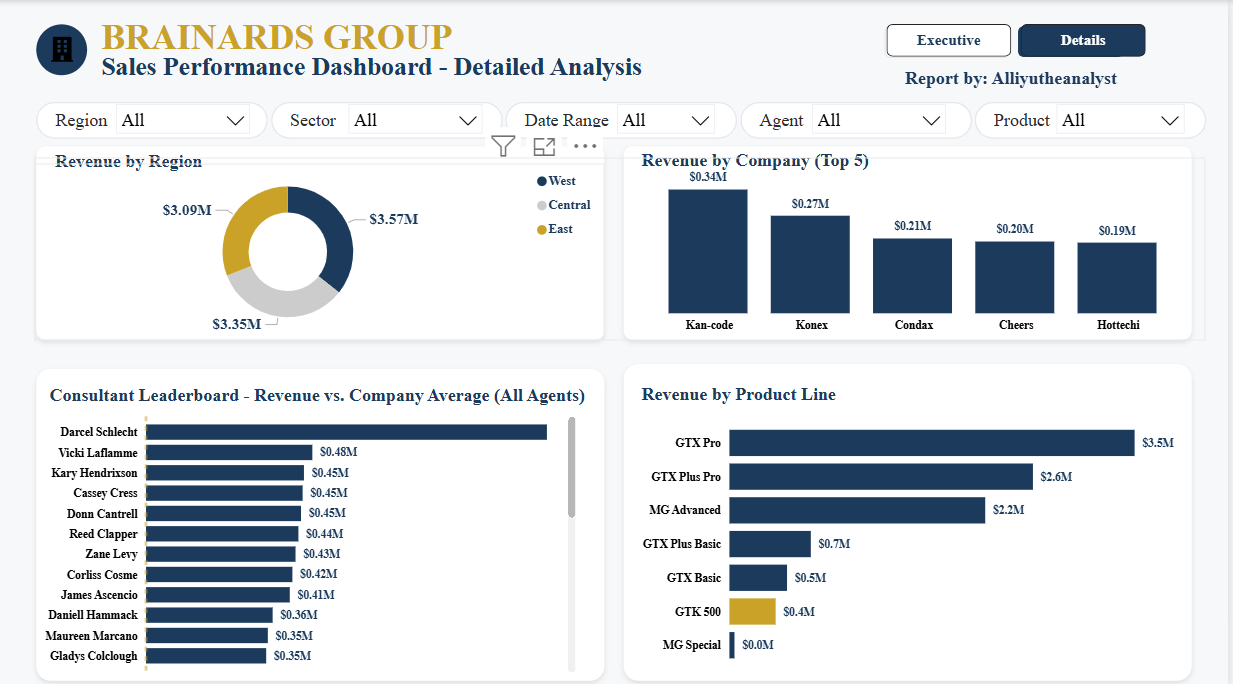

The page's visual inventory and layout, read from the dashboard file:
{"tool":"powerbi","page":{"name":"Details","canvas":[1280,720],"ordinal":1},"visuals":[{"type":"slicer","fields":{"Values":["accounts.Account"]},"box":[111,98.5,159.4,42.2],"z":0},{"type":"clusteredColumnChart","fields":{"Category":["accounts.Account"],"Y":["Measure.Total Revenue"]},"box":[650,164.8,606.7,190],"z":0,"group":"g1"},{"type":"slicer","fields":{"Values":["accounts.Sector"]},"box":[353.2,98.5,159.4,42.2],"z":1000},{"type":"donutChart","fields":{"Category":["sales_teams.Regional_office"],"Y":["Measure.Total Revenue"]},"box":[36.7,171.5,593.3,183.3],"z":1000,"group":"g1"},{"type":"slicer","fields":{"Values":["Date Table.Year"]},"box":[633,98.5,121.9,42.2],"z":2000},{"type":"slicer","fields":{"Values":["sales_teams.Sales_agent"]},"box":[836.2,98.5,159.4,42.2],"z":3000},{"type":"slicer","fields":{"Values":["products.Product"]},"box":[1091,98.5,153.2,42.2],"z":4000},{"type":"barChart","fields":{"Category":["sales_teams.Sales_agent"],"Y":["Measure.Total Revenue"]},"box":[33.3,420,571.7,285],"z":5000},{"type":"pageNavigator","box":[923.7,25,270.4,34.4],"z":6000},{"type":"barChart","fields":{"Y":["Measure.Total Revenue"],"Category":["products.Product"]},"box":[663.3,420,571.7,285],"z":7000},{"type":"group","id":"g1","title":"Group 3","box":[36.7,164.8,1220,190],"z":8000},{"type":"textbox","box":[930,65.6,247,32.8],"z":9000}]}

Visuals, with their boxes in screenshot pixels (x1, y1, x2, y2), scaled from the page's 1280x720 canvas onto the 1233x684 screenshot:
slicer - accounts.Account: box(107, 94, 260, 134)
clusteredColumnChart - accounts.Account x Measure.Total Revenue: box(626, 157, 1211, 337)
slicer - accounts.Sector: box(340, 94, 494, 134)
donutChart - sales_teams.Regional_office x Measure.Total Revenue: box(35, 163, 607, 337)
slicer - Date Table.Year: box(610, 94, 727, 134)
slicer - sales_teams.Sales_agent: box(805, 94, 959, 134)
slicer - products.Product: box(1051, 94, 1199, 134)
barChart - sales_teams.Sales_agent x Measure.Total Revenue: box(32, 399, 583, 670)
pageNavigator: box(890, 24, 1150, 56)
barChart - Measure.Total Revenue x products.Product: box(639, 399, 1190, 670)
"Group 3" group: box(35, 157, 1211, 337)
textbox: box(896, 62, 1134, 93)
